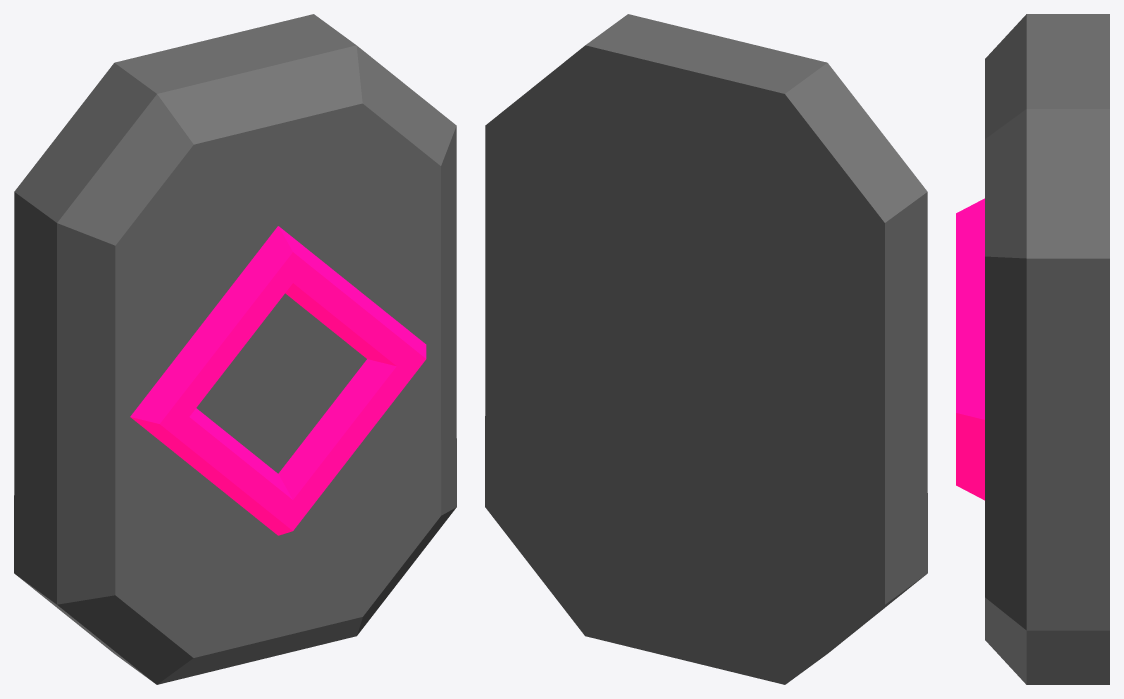
The model's file is Square Key.glb.
3 views of the same model, side by side, from view 1: azimuth 30°, elevation 25°; view 2: azimuth 150°, elevation 25°; view 3: azimuth 270°, elevation 25° (orthographic). The views are drawn at different scales.
Visible parts, largest first — view 1: Oblisk Key Square; view 2: Oblisk Key Square; view 3: Oblisk Key Square.
Part boxes in pixels (<box>): Oblisk Key Square: <box>14,14,456,684</box>; Oblisk Key Square: <box>485,14,927,684</box>; Oblisk Key Square: <box>956,14,1109,684</box>.
Size of the model in its own units: 0.5399 by 0.7622 by 0.1847.
